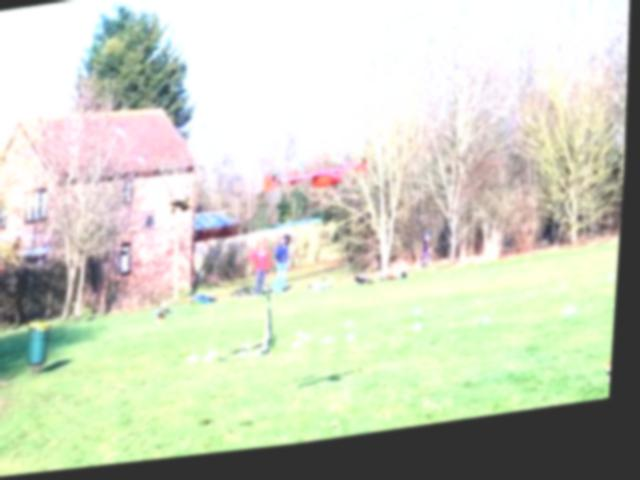uav: (259, 149, 377, 216)
